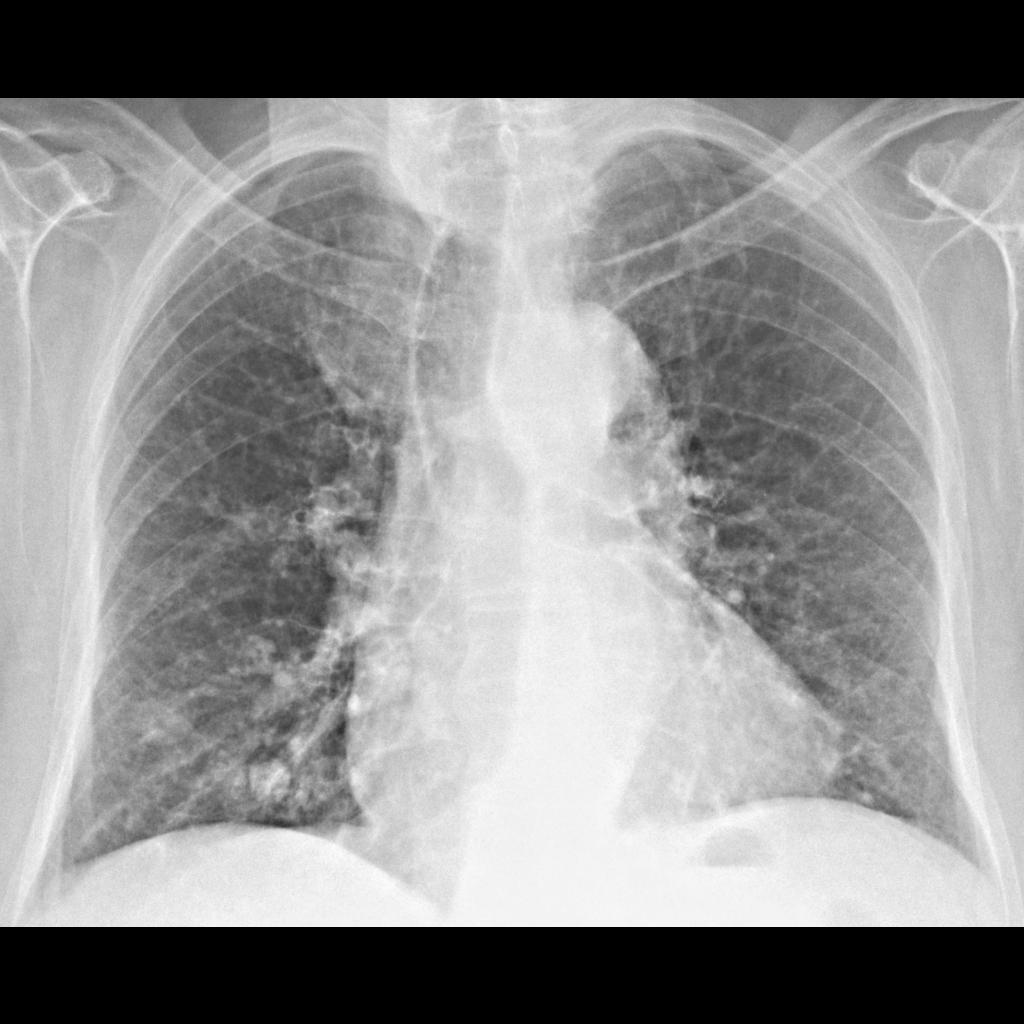Nodule: (223, 745, 298, 816), (131, 692, 199, 745)
